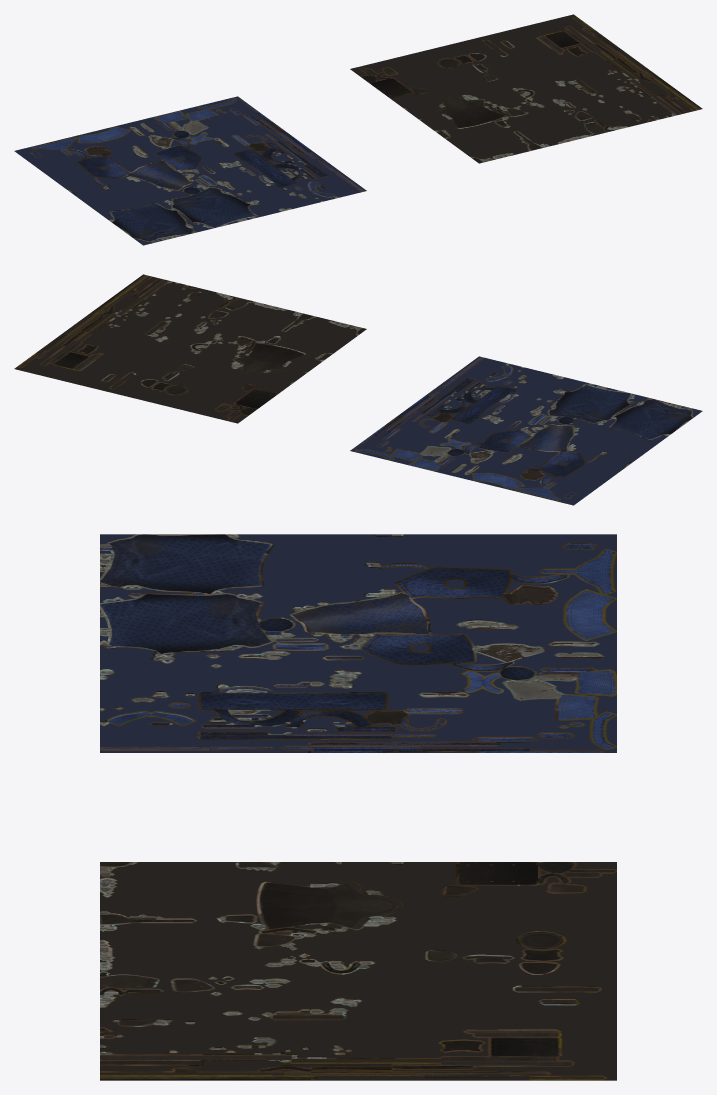
File: hunter_indigo.glb
The picture shows the model from 3 angles, top to bottom: view 1: azimuth 30°, elevation 25°; view 2: azimuth 150°, elevation 25°; view 3: azimuth 270°, elevation 25°; orthographic projection. The views are drawn at different scales.
Parts seen in each view (by area): view 1: Dye_hunter_indigo_cloth, Dye_hunter_indigo_gear; view 2: Dye_hunter_indigo_cloth, Dye_hunter_indigo_gear; view 3: Dye_hunter_indigo_cloth, Dye_hunter_indigo_gear.
Boxes of the visible parts, x1,y1,x2,y2 form: Dye_hunter_indigo_cloth: (14,96,366,245); Dye_hunter_indigo_gear: (350,14,702,163); Dye_hunter_indigo_cloth: (350,356,702,505); Dye_hunter_indigo_gear: (14,274,366,423); Dye_hunter_indigo_cloth: (100,534,616,752); Dye_hunter_indigo_gear: (100,862,616,1080).
Size of the model in its own units: 0.5 by 0 by 0.2.
2 materials, 2 textured.
